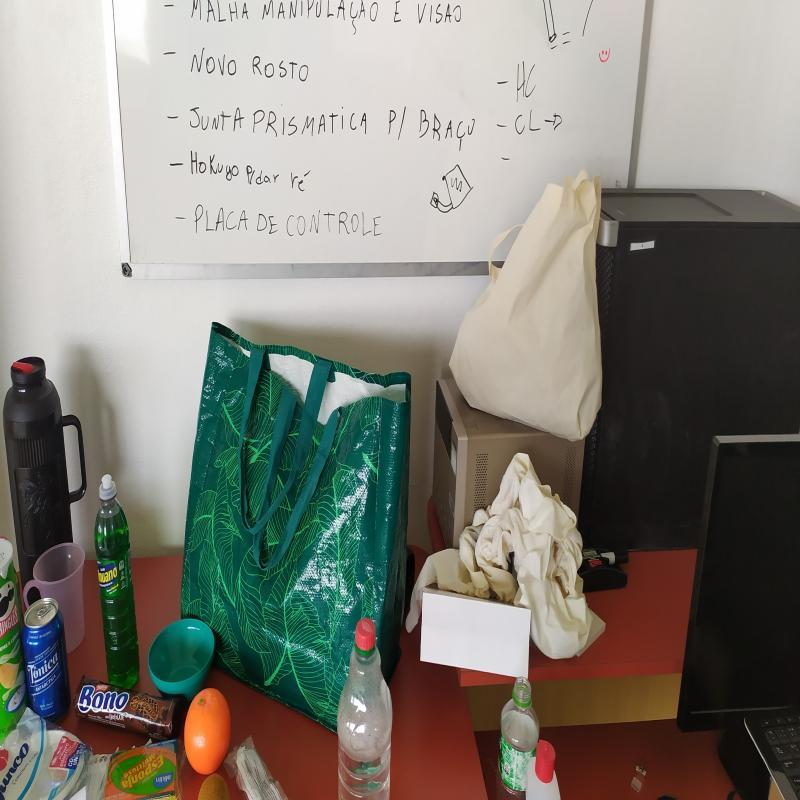Bag: (174, 320, 416, 738), (450, 167, 607, 446)
Bowl: (147, 619, 216, 699)
Cleaner: (92, 474, 138, 692)
Cookies: (78, 677, 180, 738)
Mug: (24, 539, 88, 664)
Orange: (184, 686, 232, 776)
Plate: (0, 723, 88, 800)
Pringles: (0, 538, 27, 753)
Sponge: (105, 744, 176, 800)
Tonic: (25, 596, 72, 725)
